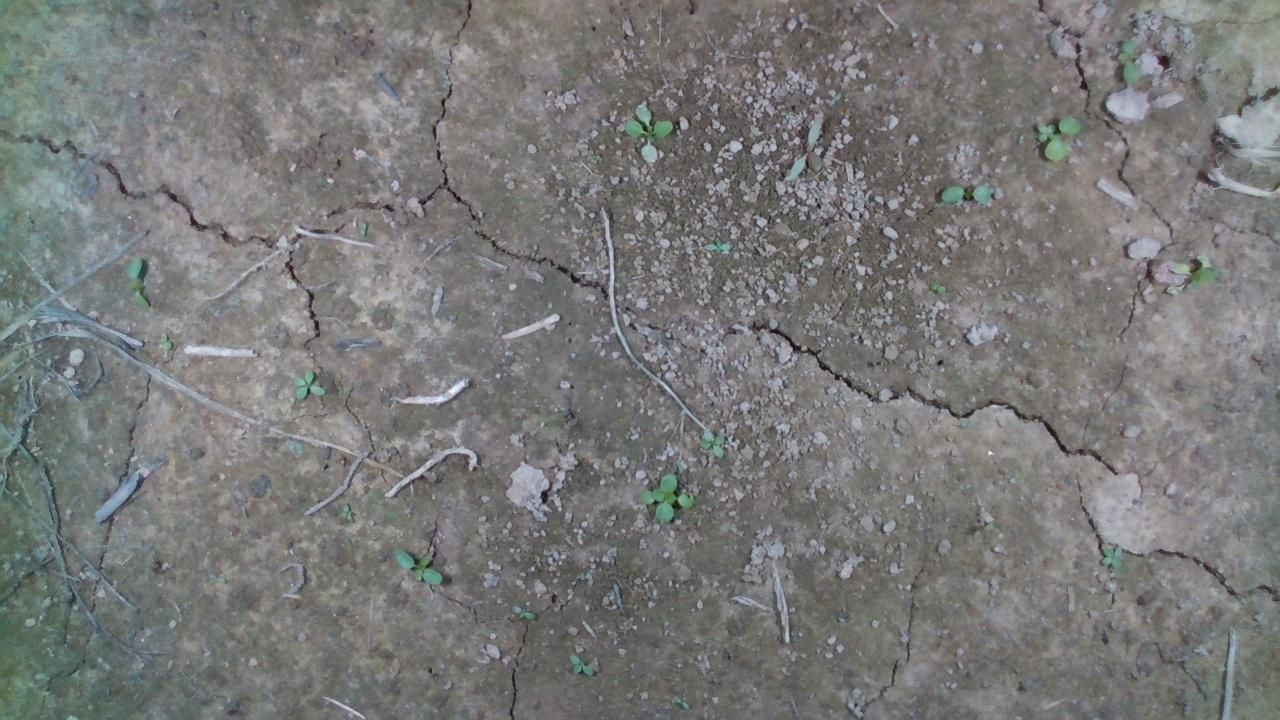weed: (639, 470, 687, 531), (619, 101, 673, 145), (389, 546, 445, 588), (946, 176, 1011, 210), (1038, 109, 1072, 166), (564, 649, 599, 685), (293, 367, 326, 402), (705, 428, 735, 464)
